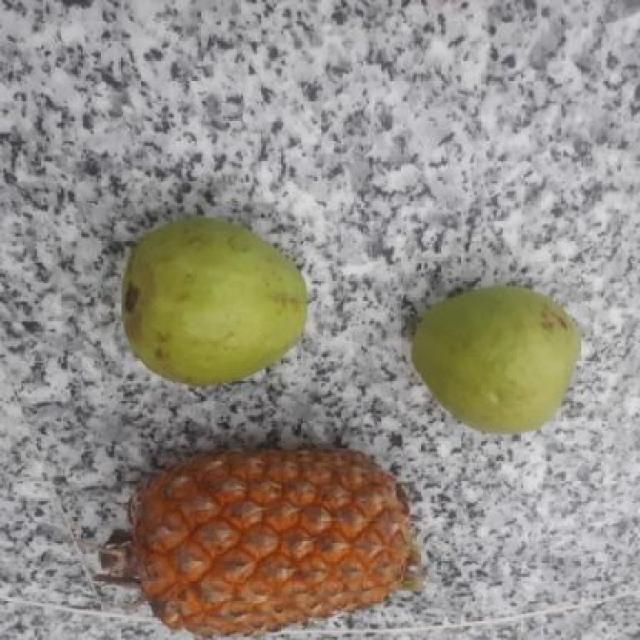guava: (112, 216, 300, 379), (403, 288, 582, 430)
pineapple: (111, 445, 420, 632)
